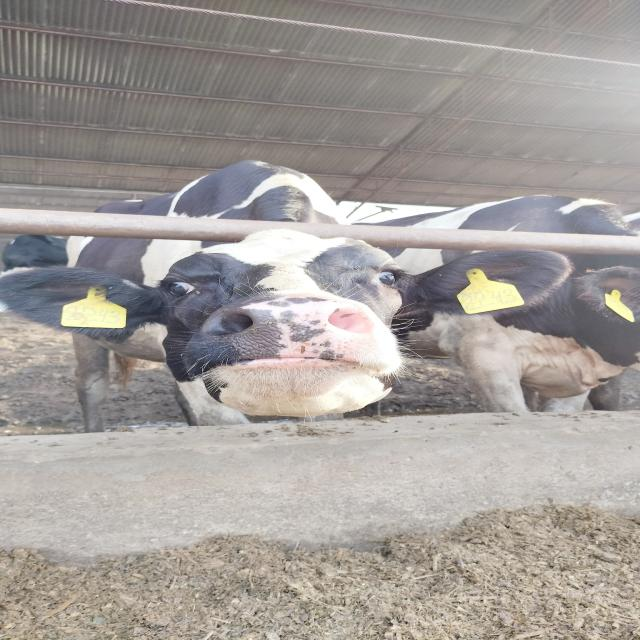muzzles: (179, 292, 404, 378)
